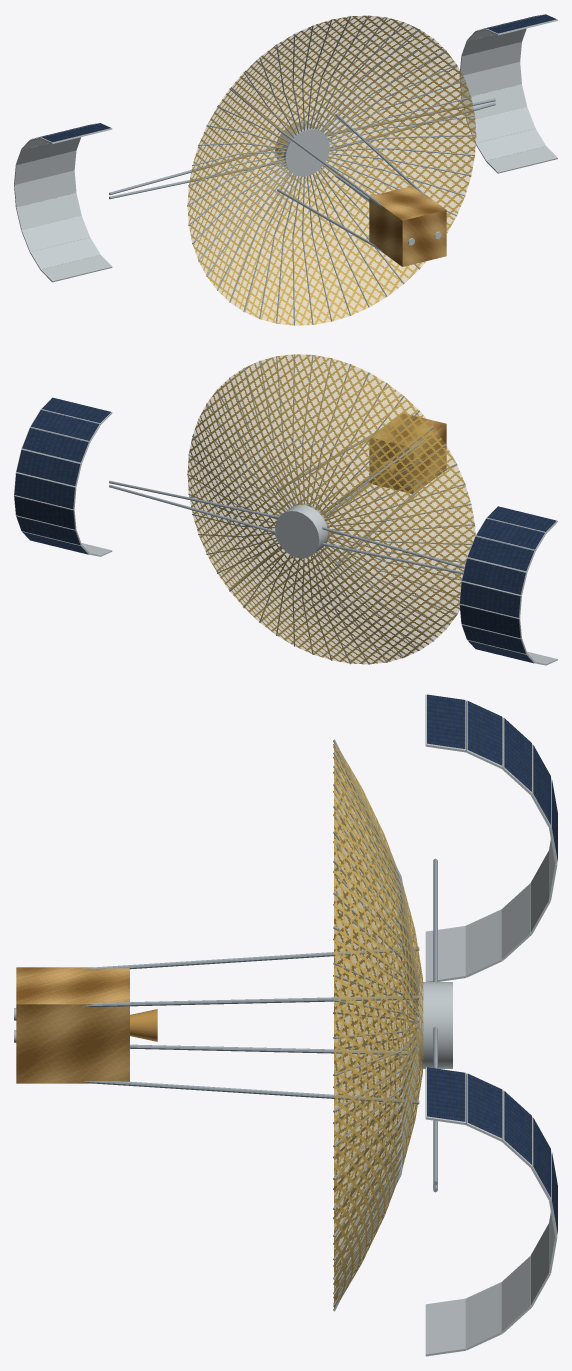
File: ref-ats-f-7318.glb
3 renders of one model, top to bottom at view 1: azimuth 30°, elevation 25°; view 2: azimuth 150°, elevation 25°; view 3: azimuth 270°, elevation 25°, orthographic. The views are drawn at different scales.
Visible parts, largest first — view 1: Parabolic mesh parasol, Curved paddle backing (×14), Earth-viewing module, Reflector hub, Solar paddle cells (×2), Solar paddle truss (×2), Reflector support truss; view 2: Parabolic mesh parasol, Solar paddle cells (×16), Earth-viewing module, Reflector hub, Solar paddle truss (×4); view 3: Parabolic mesh parasol, Curved paddle backing (×8), Earth-viewing module, Solar paddle cells (×8), Reflector support truss (×4), Reflector hub.
Boxes of the visible parts, x1=… form: Parabolic mesh parasol: x1=187, y1=15, x2=476, y2=325; Curved paddle backing (×14): x1=14, y1=28, x2=557, y2=282; Earth-viewing module: x1=369, y1=186, x2=446, y2=266; Reflector hub: x1=275, y1=121, x2=329, y2=176; Solar paddle cells (×2): x1=42, y1=14, x2=556, y2=142; Solar paddle truss (×2): x1=109, y1=145, x2=281, y2=199; Reflector support truss: x1=277, y1=128, x2=383, y2=207; Parabolic mesh parasol: x1=187, y1=354, x2=475, y2=664; Solar paddle cells (×16): x1=14, y1=397, x2=556, y2=663; Earth-viewing module: x1=369, y1=413, x2=446, y2=493; Reflector hub: x1=275, y1=503, x2=329, y2=558; Solar paddle truss (×4): x1=109, y1=480, x2=464, y2=574; Parabolic mesh parasol: x1=334, y1=740, x2=423, y2=1309; Curved paddle backing (×8): x1=425, y1=851, x2=550, y2=1356; Earth-viewing module: x1=16, y1=967, x2=129, y2=1083; Solar paddle cells (×8): x1=427, y1=694, x2=550, y2=1197; Reflector support truss (×4): x1=83, y1=946, x2=419, y2=1104; Reflector hub: x1=416, y1=982, x2=452, y2=1068.
Bounding box in the file's own units: 16 × 9.16 × 8.7.
6 materials, 3 textured.
